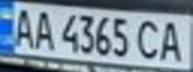3: (75, 11, 96, 55)
4: (54, 10, 78, 54)
5: (109, 15, 136, 58)
6: (93, 12, 115, 56)
A: (157, 17, 187, 63), (6, 5, 36, 48), (30, 7, 57, 52)
C: (133, 17, 163, 61)
